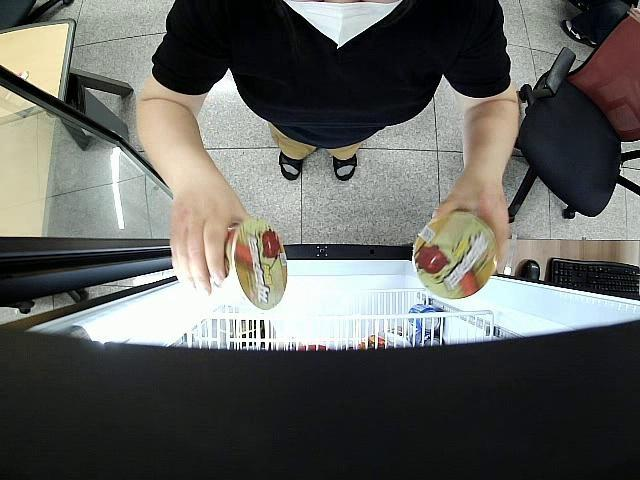04_chapagetti_S: (204, 215, 288, 308), (414, 212, 496, 298)
